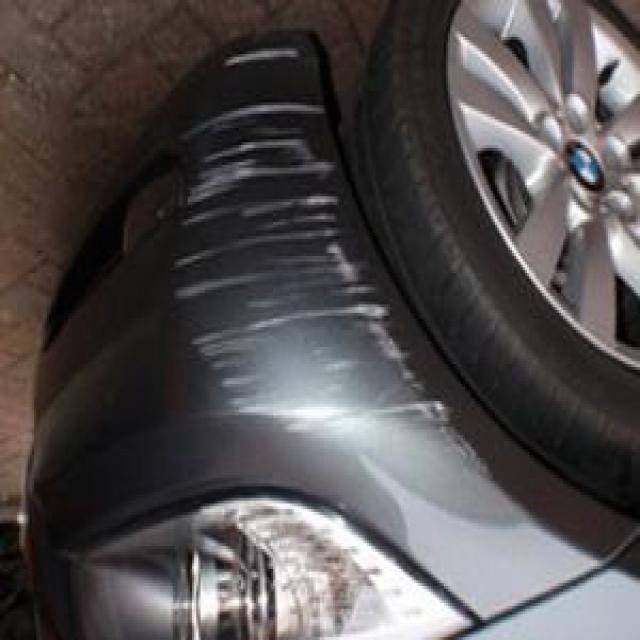scratch: (114, 77, 441, 441)
